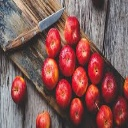apple: (43, 15, 128, 127)
